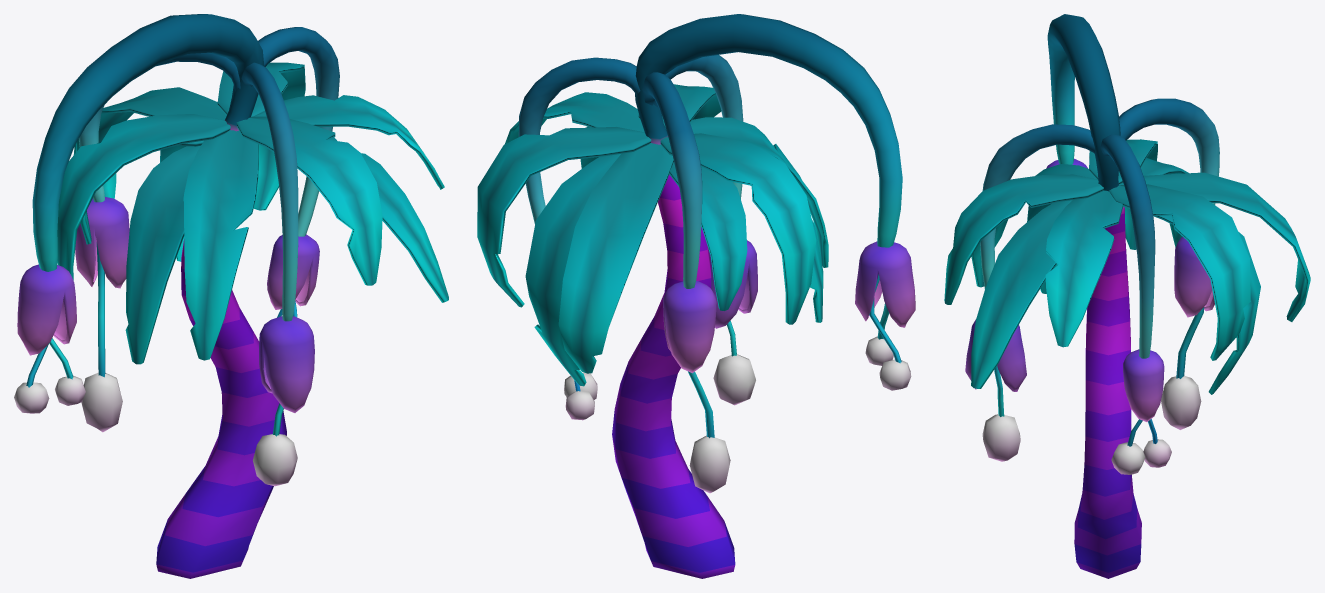
File: Plant_tree_01.fbx
3 renders of one model, left to right at view 1: azimuth 30°, elevation 25°; view 2: azimuth 150°, elevation 25°; view 3: azimuth 270°, elevation 25°, orthographic. The views are drawn at different scales.
Visible parts, largest first — view 1: plant_tree_01; view 2: plant_tree_01; view 3: plant_tree_01.
Part boxes in pixels (box(x1,y1,x2,y2)): plant_tree_01: box(14, 14, 448, 578); plant_tree_01: box(477, 14, 915, 578); plant_tree_01: box(944, 14, 1310, 578).
Size of the model in its own units: 397 by 505 by 330.
